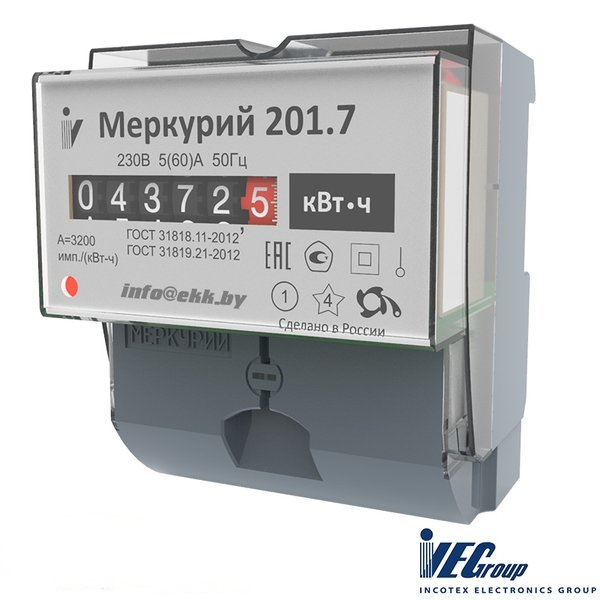counter: (29, 43, 460, 507)
counter_screen: (66, 171, 281, 231)
